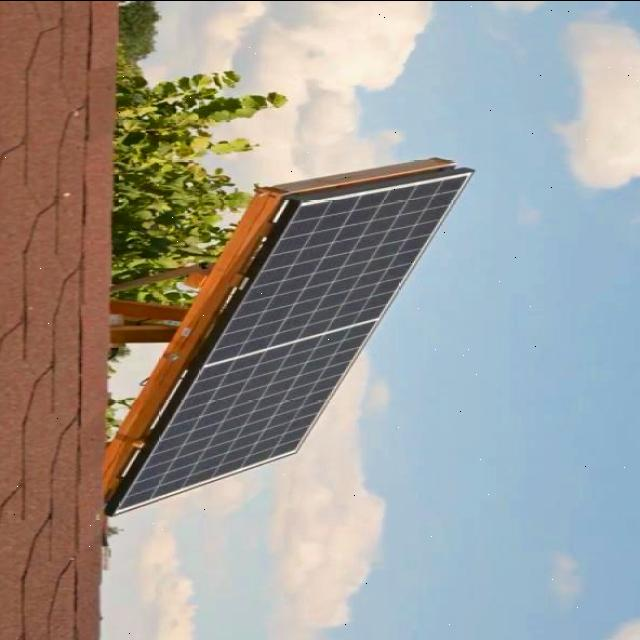Normal Solar Panel: (108, 168, 468, 514)
